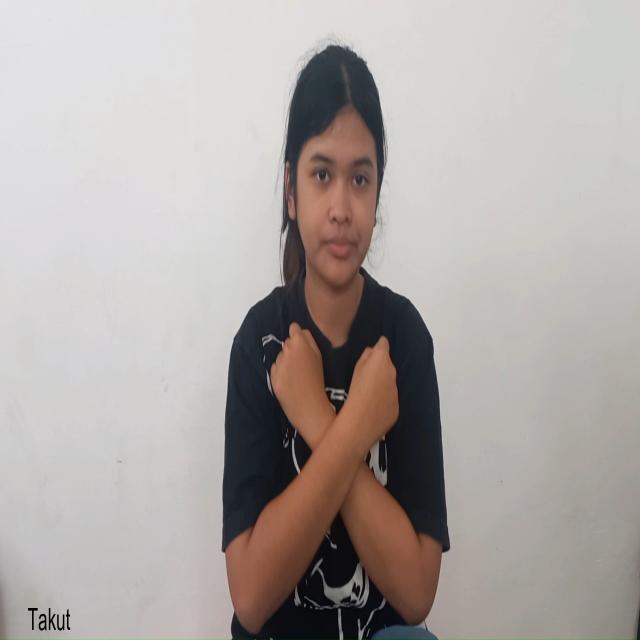Takut -BISINDO-: (262, 309, 412, 563)
